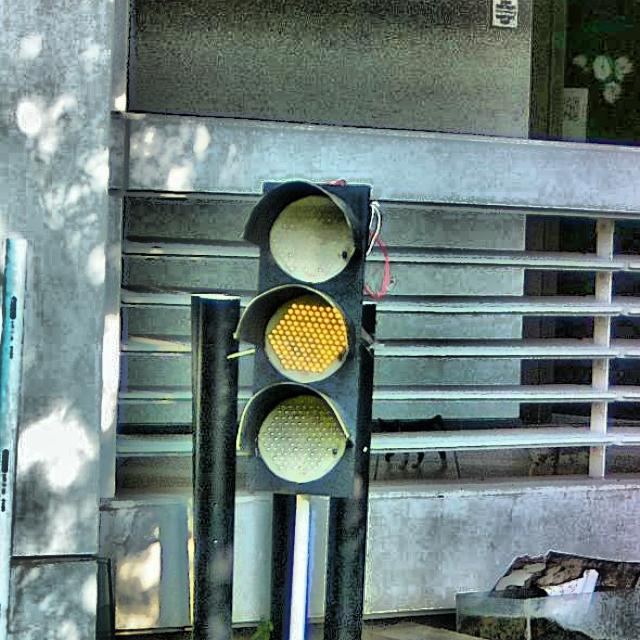yellow: (234, 180, 366, 502)
